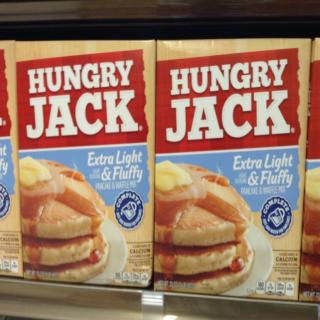Pancake: (148, 173, 250, 293), (23, 160, 111, 283), (299, 168, 320, 286)
